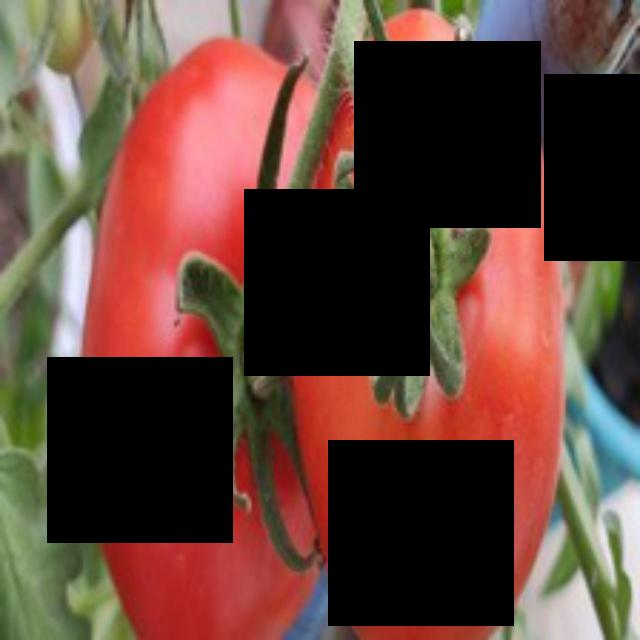tomato: (301, 6, 573, 640)
